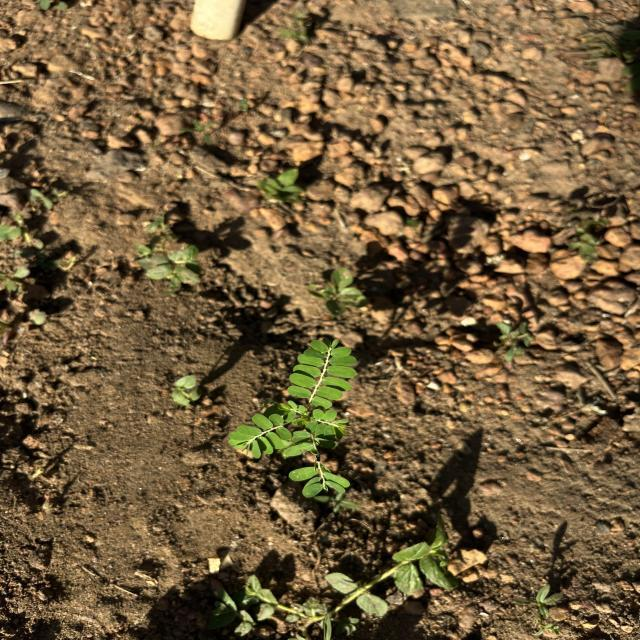Phyllanthus niruri: (284, 336, 359, 412), (224, 411, 294, 460), (302, 408, 352, 442)
